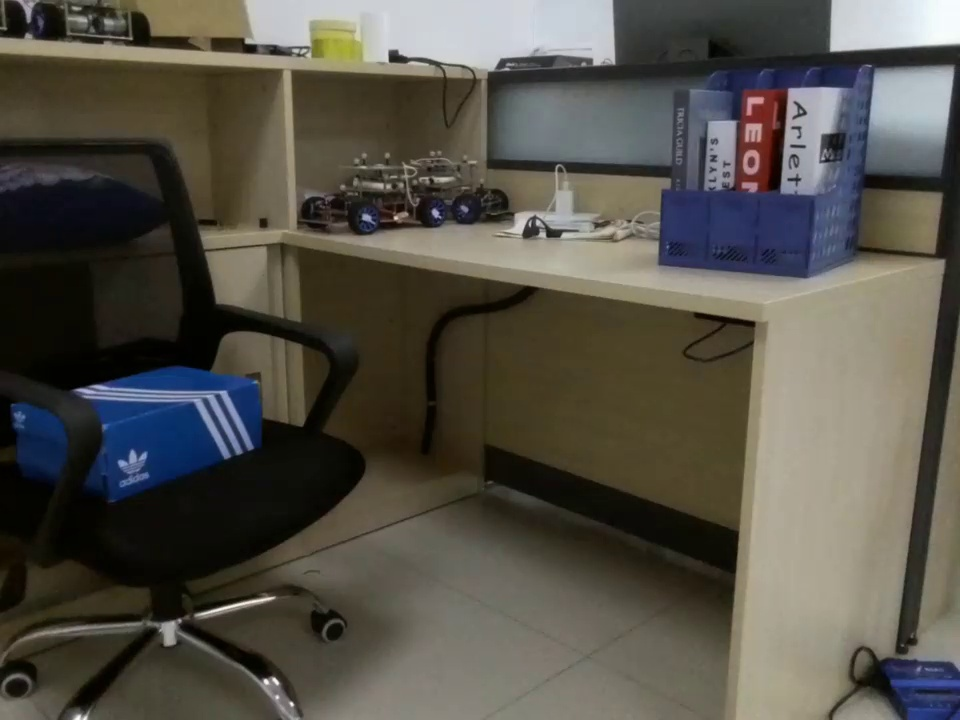files: (660, 57, 876, 285)
